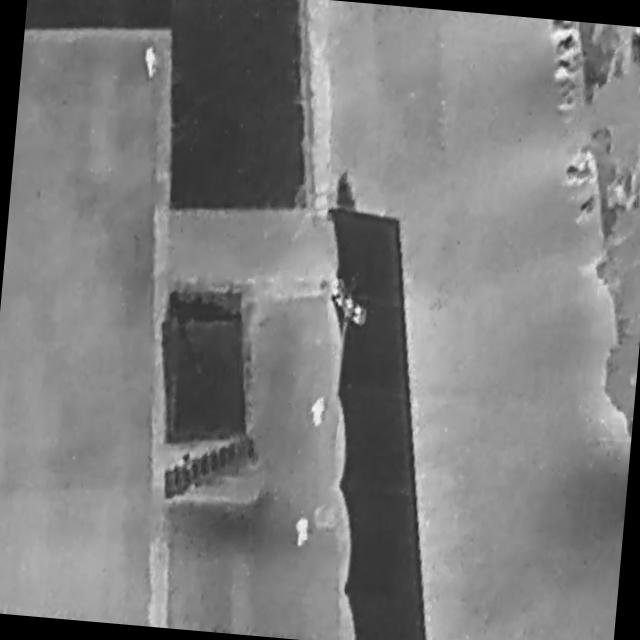person: (307, 395, 328, 432), (141, 46, 160, 82), (295, 516, 311, 550)
